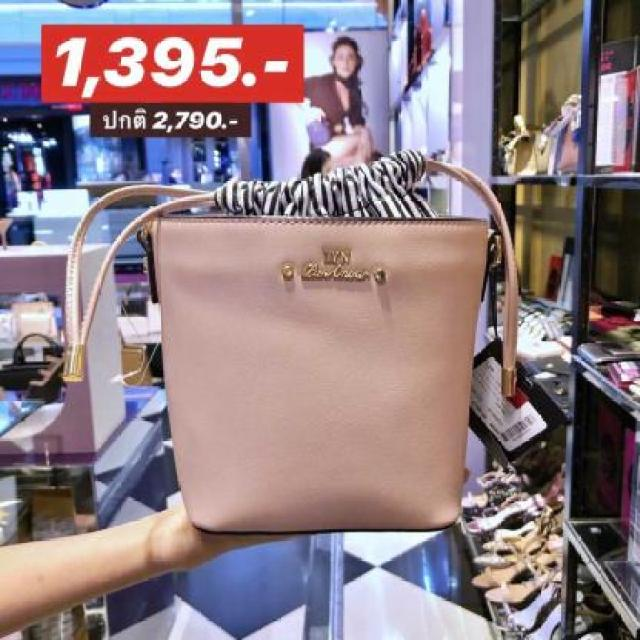Bag: (21, 38, 590, 584)
